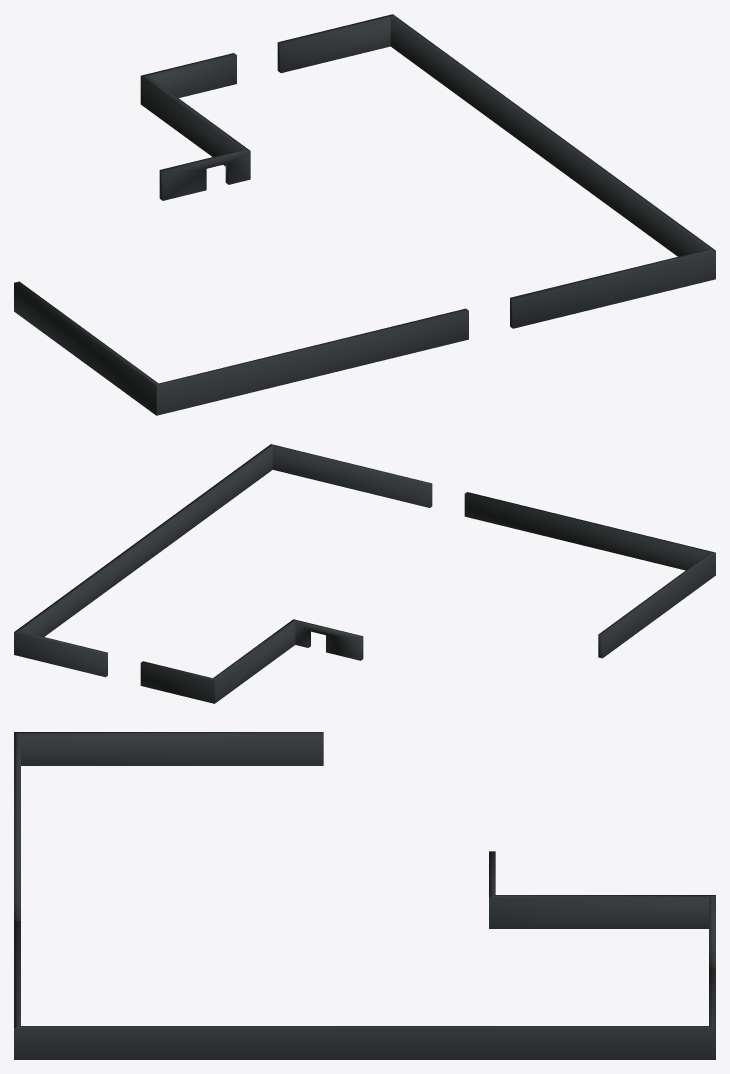
Rendered from walls.gltf.
3 views of the same model, one above another, from view 1: azimuth 30°, elevation 25°; view 2: azimuth 150°, elevation 25°; view 3: azimuth 270°, elevation 25° (orthographic). The views are drawn at different scales.
Parts seen in each view (by area): view 1: wall7, wall2, wall6, wall1, wall8, wall4, wall3, wall5; view 2: wall7, wall2, wall6, wall1, wall8, wall4, wall5, wall3; view 3: wall7, wall1, wall4, wall2, wall6.
Boxes of the visible parts, box(x1,y1,x2,y2) form: wall7: box(390, 14, 715, 256); wall2: box(156, 308, 468, 415); wall6: box(510, 249, 715, 328); wall1: box(14, 281, 158, 415); wall8: box(277, 14, 392, 72); wall4: box(140, 75, 250, 166); wall3: box(159, 150, 250, 200); wall5: box(141, 53, 236, 97); wall7: box(14, 444, 272, 636); wall2: box(464, 492, 714, 570); wall6: box(271, 444, 432, 507); wall1: box(598, 552, 715, 658); wall8: box(14, 631, 107, 677); wall4: box(213, 619, 295, 703); wall5: box(140, 661, 214, 703); wall3: box(294, 619, 363, 660); wall7: box(14, 1026, 715, 1059); wall1: box(14, 732, 323, 765); wall4: box(489, 895, 714, 928); wall2: box(14, 732, 20, 920); wall6: box(14, 921, 20, 1028).
Bounding box in the file's own units: 102 × 5 × 102.
1 material, 1 textured.
